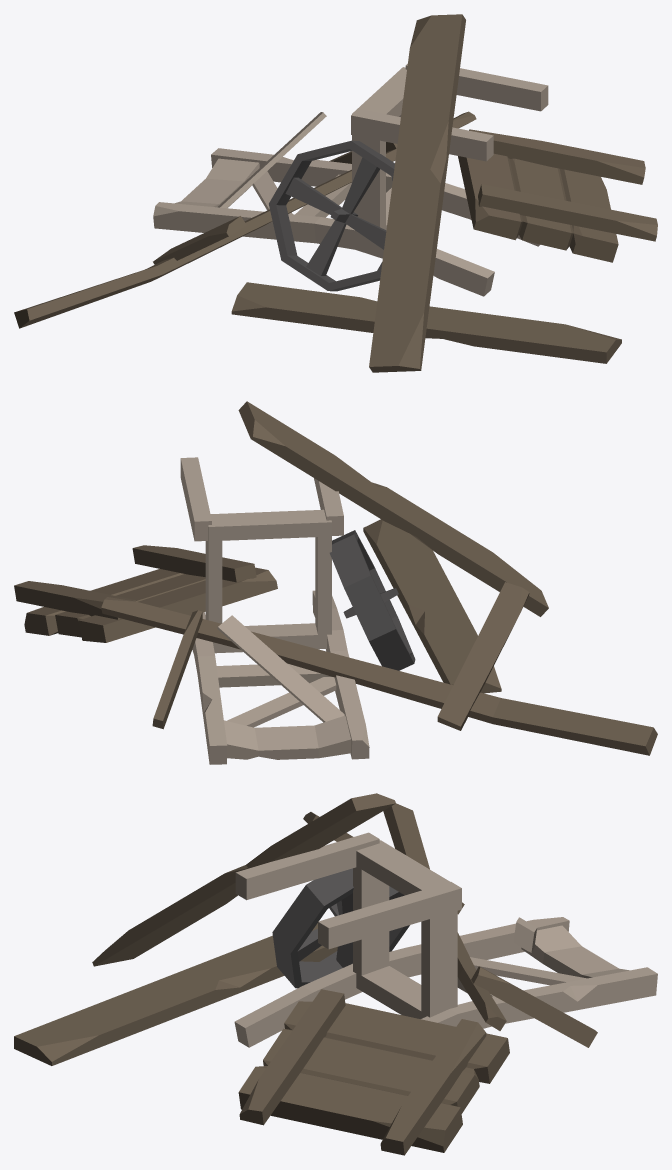
Rendered from SM_Prop_Rubbish_Pile_05_textured.fbx.
The picture shows the model from 3 angles, top to bottom: view 1: azimuth 30°, elevation 25°; view 2: azimuth 150°, elevation 25°; view 3: azimuth 270°, elevation 25°; orthographic projection. The views are drawn at different scales.
Visible parts, largest first — view 1: SM_Prop_Rubbish_Pile_05; view 2: SM_Prop_Rubbish_Pile_05; view 3: SM_Prop_Rubbish_Pile_05.
Part boxes in pixels (bbox=[...]): SM_Prop_Rubbish_Pile_05: bbox=[14, 14, 657, 372]; SM_Prop_Rubbish_Pile_05: bbox=[14, 401, 657, 764]; SM_Prop_Rubbish_Pile_05: bbox=[14, 793, 657, 1155].
Size of the model in its own units: 238 by 86.94 by 194.
Materials: 1 (1 with a texture image).
